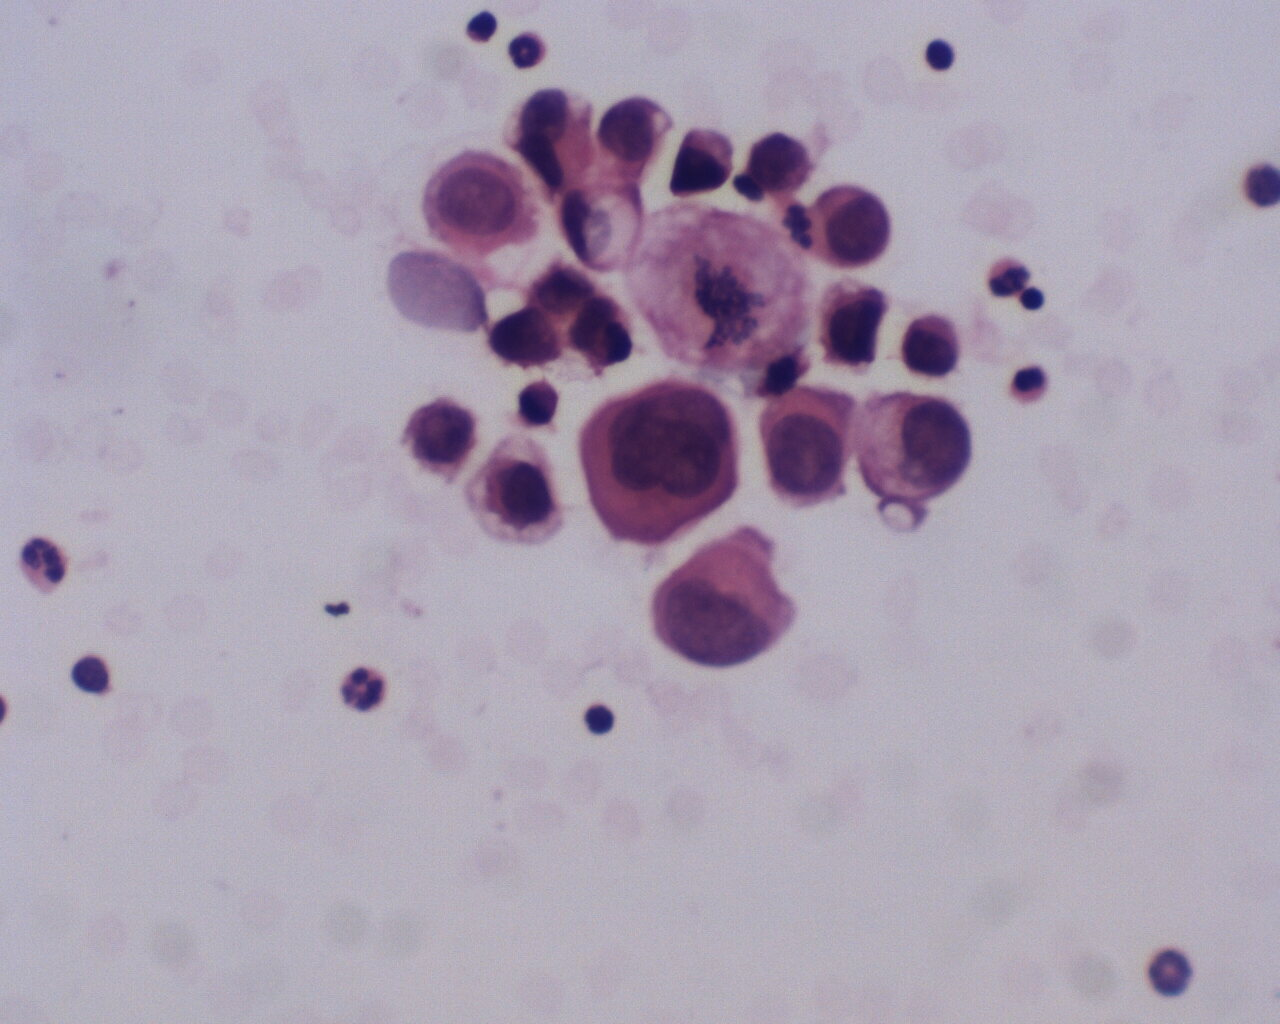ab: (634, 203, 808, 378), (580, 374, 737, 548), (646, 520, 798, 676), (855, 386, 978, 511), (421, 141, 540, 260), (760, 386, 855, 511), (468, 441, 571, 548), (810, 185, 893, 271), (402, 399, 479, 482), (820, 280, 885, 374), (479, 305, 567, 373), (670, 127, 742, 197), (900, 309, 965, 382), (747, 129, 815, 197)
lymph: (579, 698, 620, 743), (917, 37, 954, 75)
neutro: (20, 531, 73, 597), (339, 662, 387, 716), (984, 252, 1031, 299), (505, 28, 550, 73)
